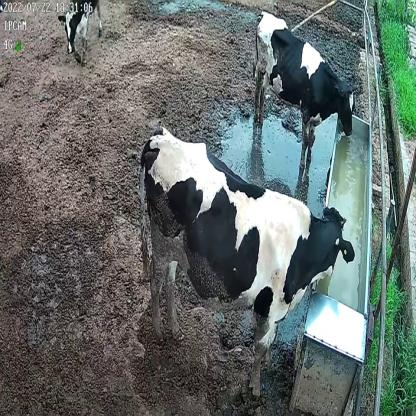cow: (135, 124, 356, 399), (252, 11, 356, 166)
